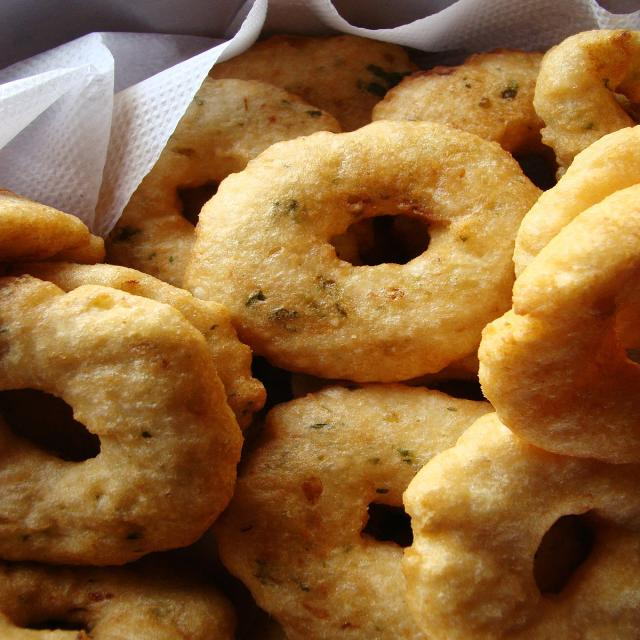MEDU VADA: (191, 116, 538, 386), (0, 274, 243, 570), (213, 389, 489, 640)
